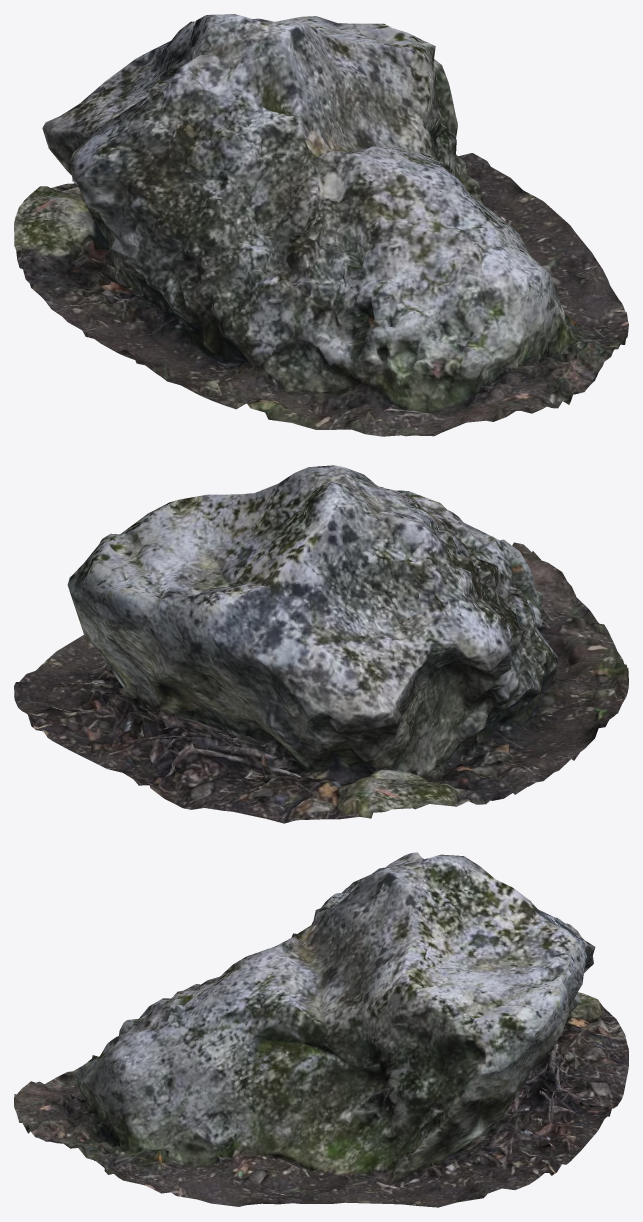
File: rock3_quest.glb
The picture shows the model from 3 angles, top to bottom: view 1: azimuth 30°, elevation 25°; view 2: azimuth 150°, elevation 25°; view 3: azimuth 270°, elevation 25°; orthographic projection. The views are drawn at different scales.
Parts seen in each view (by area): view 1: sutr30__0; view 2: sutr30__0; view 3: sutr30__0.
Boxes of the visible parts, left/top/right/bottom form: sutr30__0: left=14, top=14, right=628, bottom=436; sutr30__0: left=14, top=465, right=628, bottom=823; sutr30__0: left=14, top=852, right=628, bottom=1207.
Size of the model in its own units: 1.37 by 0.7381 by 1.67.
1 material, 1 textured.
